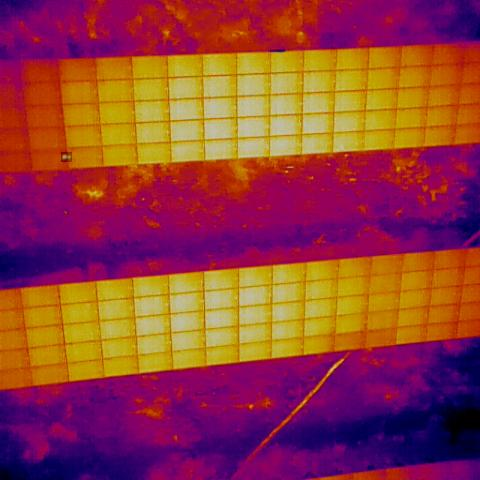fault: (61, 152, 72, 162)
